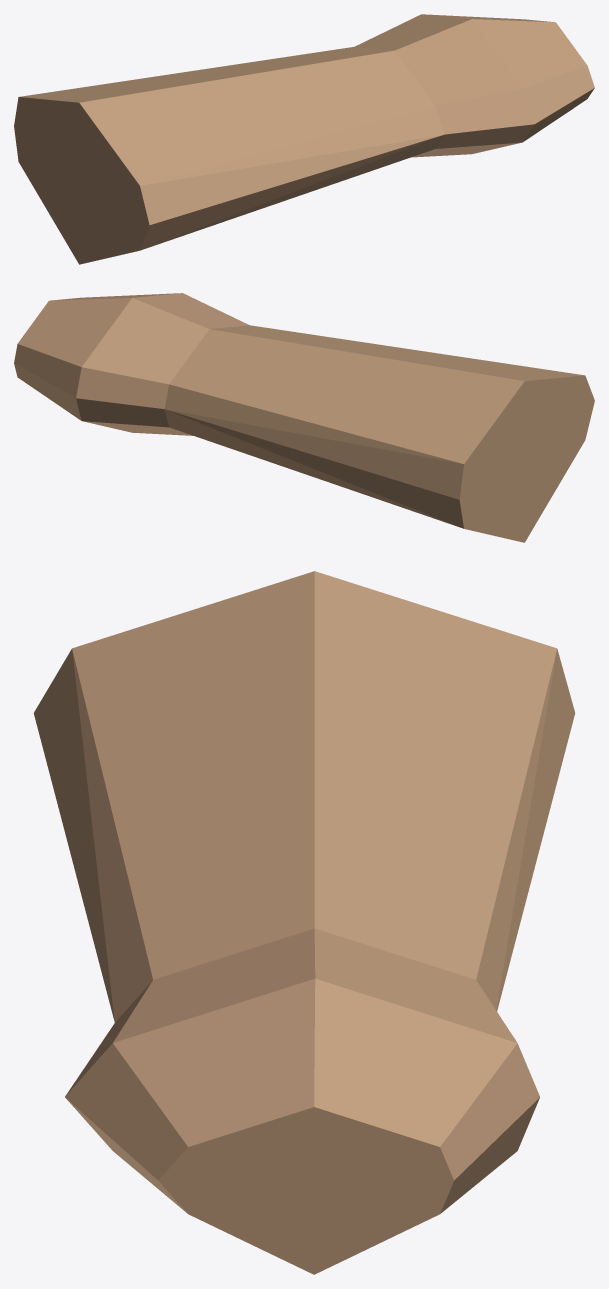
File: hand.obj
3 renders of one model, top to bottom at view 1: azimuth 30°, elevation 25°; view 2: azimuth 150°, elevation 25°; view 3: azimuth 270°, elevation 25°, orthographic. The views are drawn at different scales.
Visible parts, largest first — view 1: Hand; view 2: Hand; view 3: Hand.
Boxes of the visible parts, box(x1,y1,x2,y2) form: Hand: box(14, 14, 594, 264); Hand: box(14, 293, 594, 542); Hand: box(33, 571, 575, 1274).
Bounding box in the file's own units: 0.8003 × 0.2599 × 0.3944.
